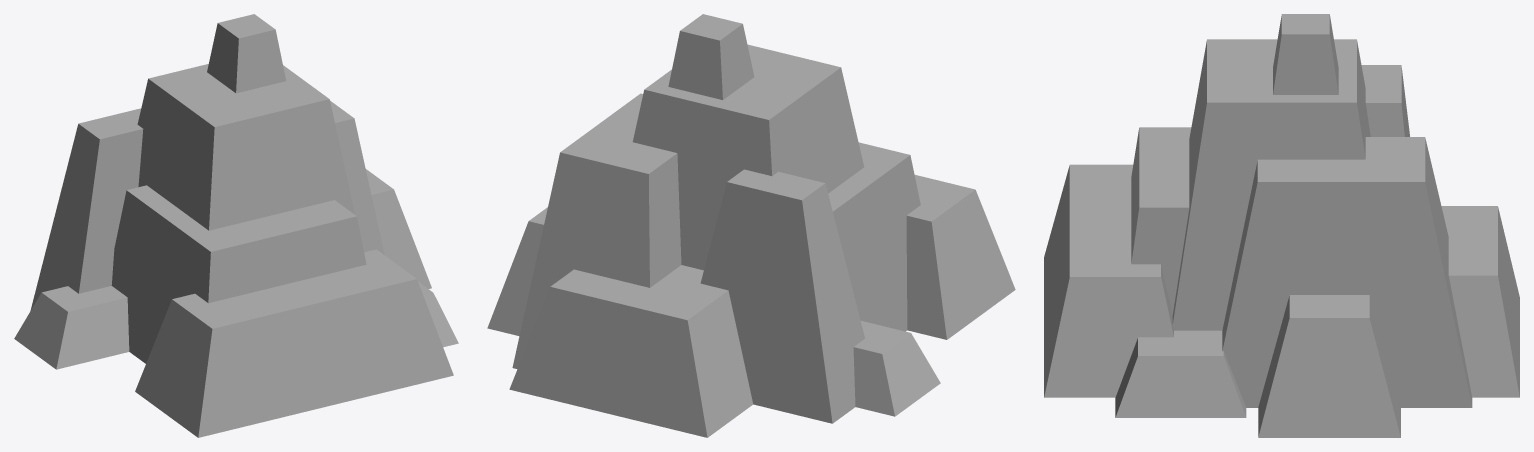
File: Rock_Big_01.fbx
3 renders of one model, left to right at view 1: azimuth 30°, elevation 25°; view 2: azimuth 150°, elevation 25°; view 3: azimuth 270°, elevation 25°, orthographic. The views are drawn at different scales.
Visible parts, largest first — view 1: Rock_Big_01; view 2: Rock_Big_01; view 3: Rock_Big_01.
Part boxes in pixels (x1,y1,x2,y2): Rock_Big_01: [14, 14, 458, 437]; Rock_Big_01: [487, 14, 1015, 437]; Rock_Big_01: [1044, 14, 1519, 437].
Size of the model in its own units: 200 by 150 by 200.
Materials: 1 (1 with a texture image).
